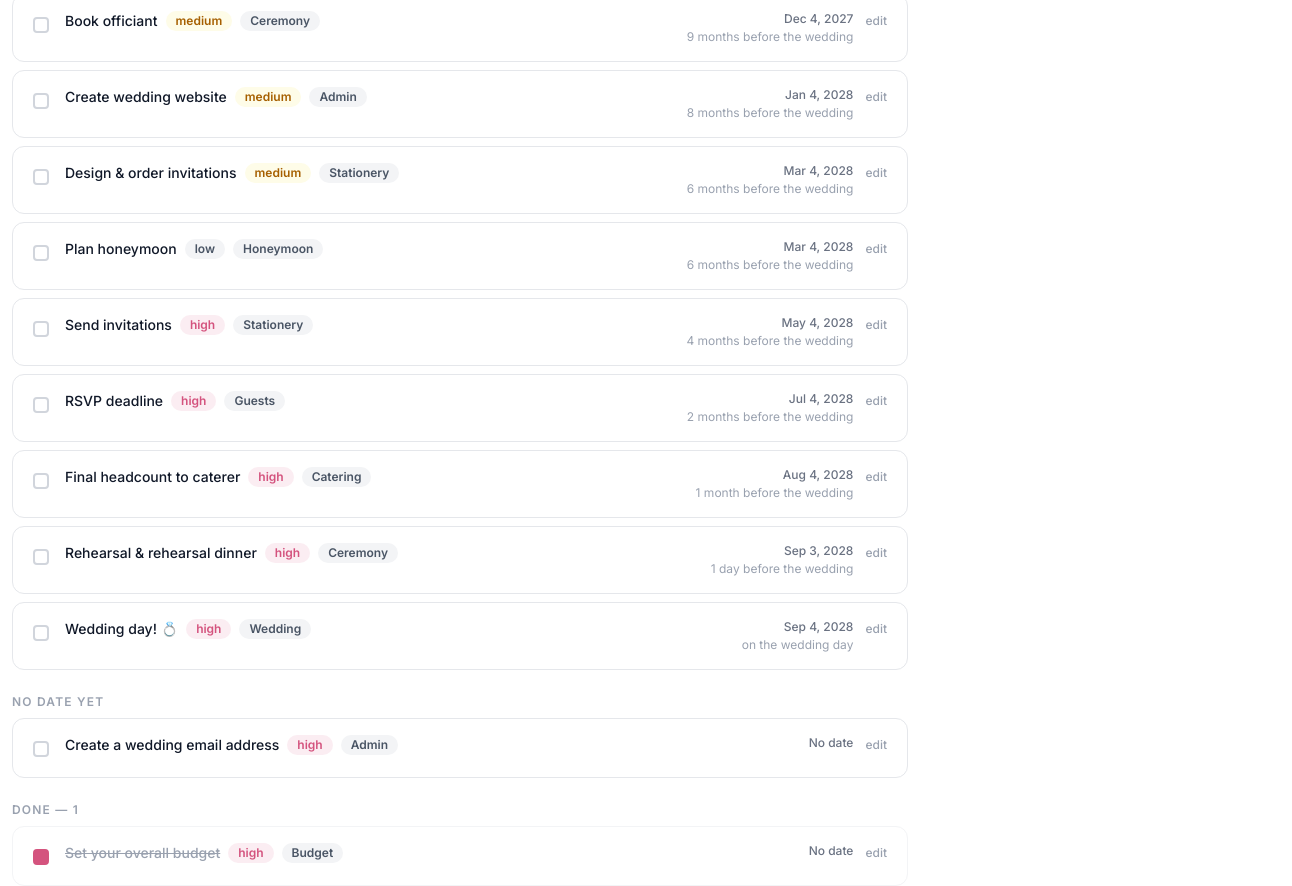
Test: Timeline — removing an item › removes a completed task
(page scrolled)
Click the button "edit" in the row of "Set your overall budget" at (876, 853), box [865,845,887,861]
(page scrolled)
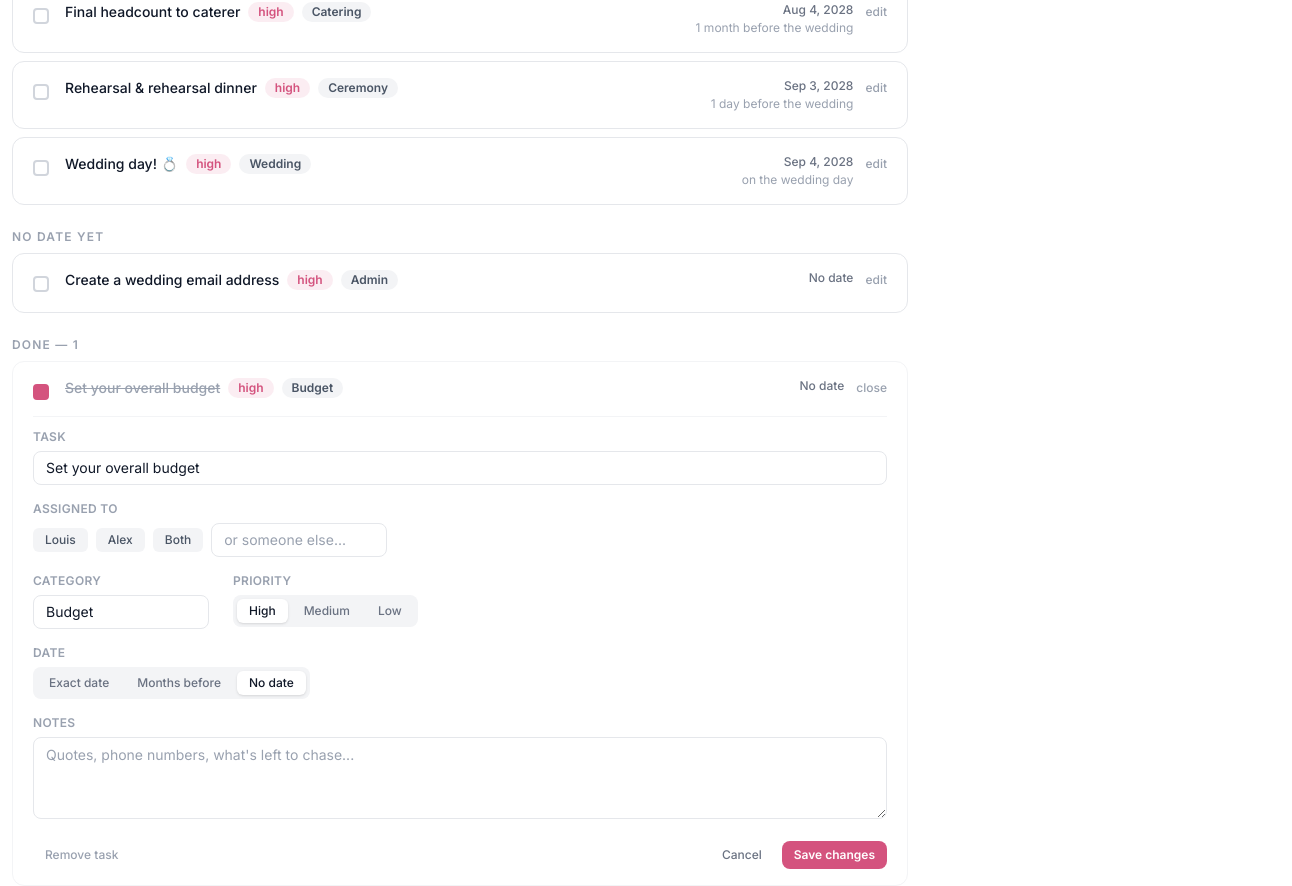
Click the button "Remove task" at (82, 855), box [33,841,130,869]
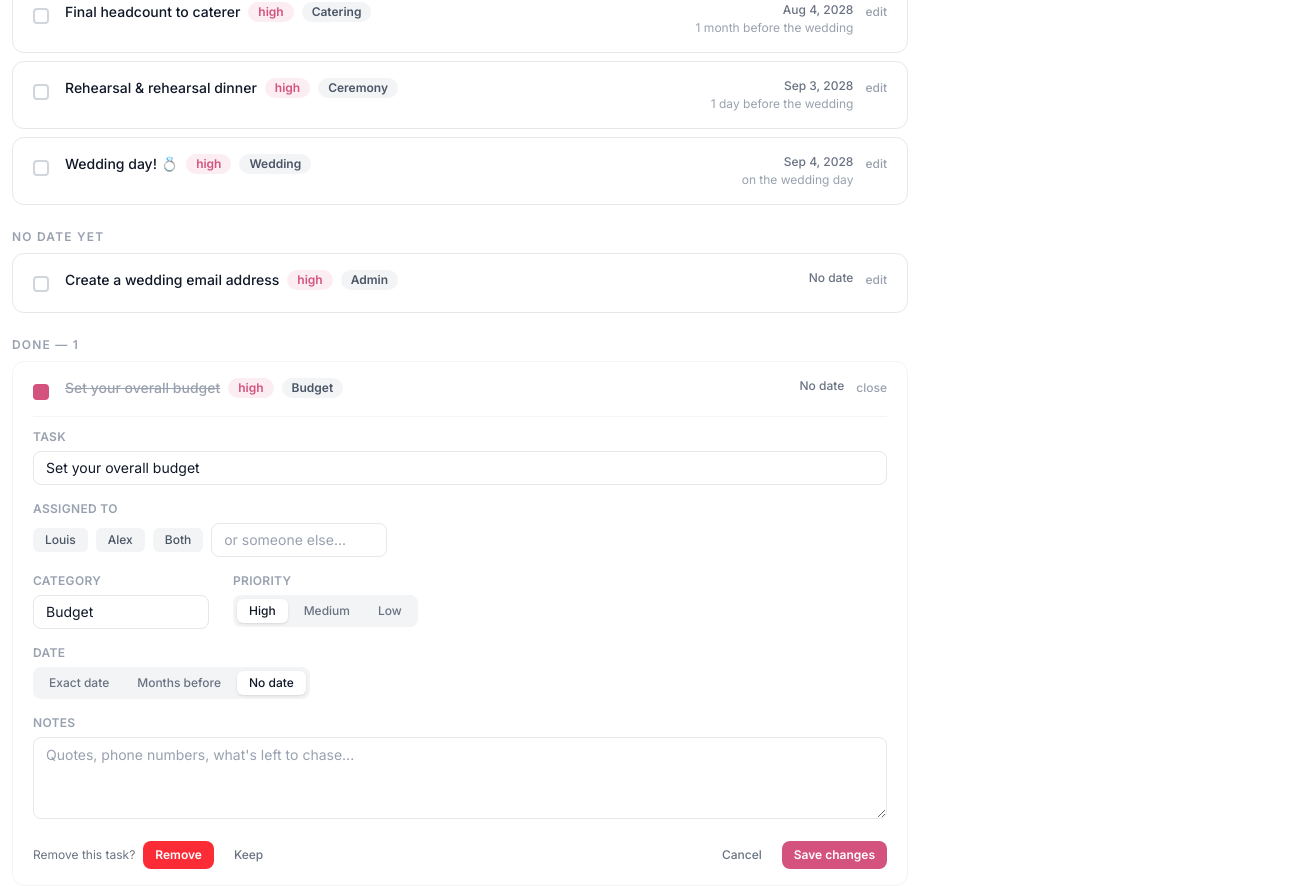
Click the button "Remove" at (179, 855), box [143,841,214,869]
(page scrolled)
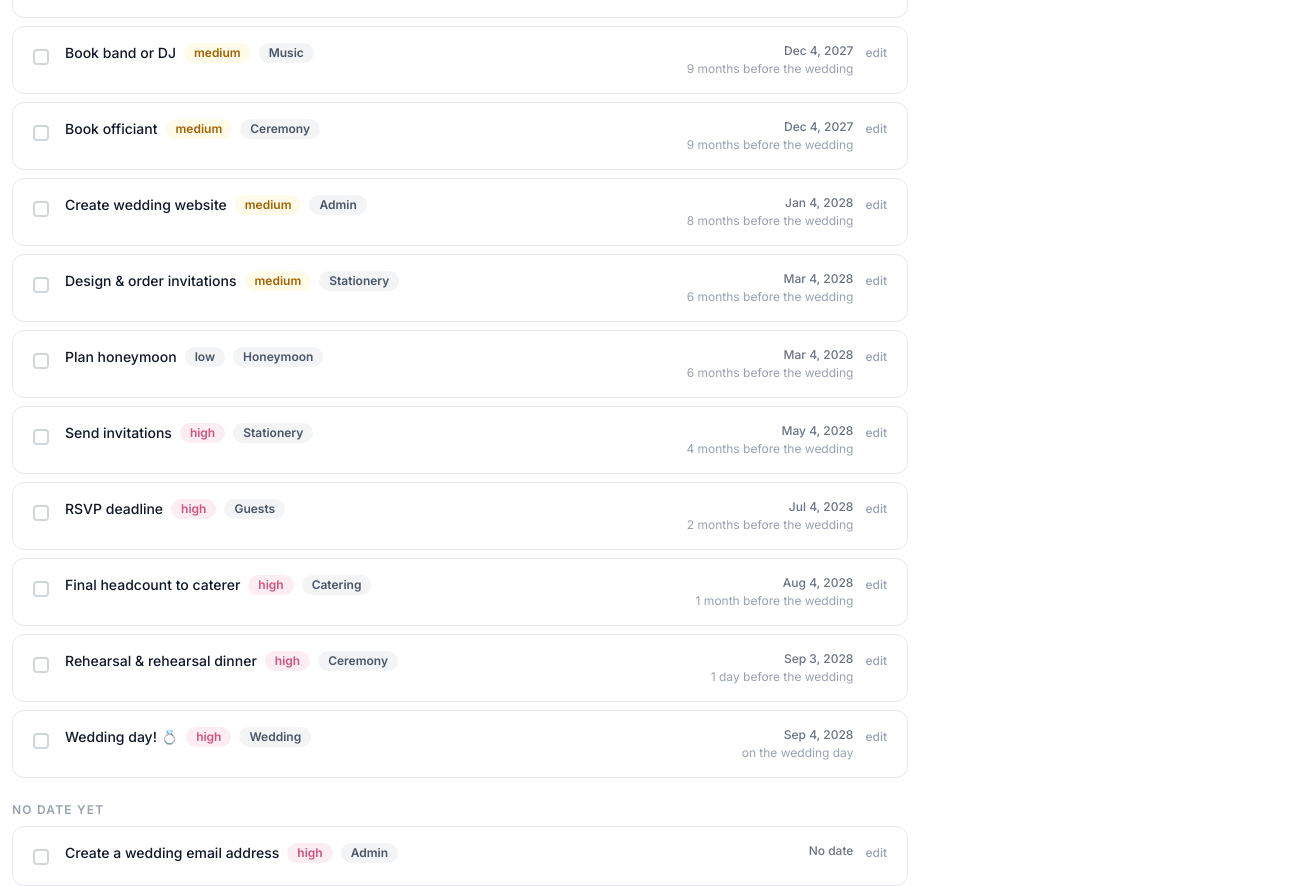
Expected: the text "Set your overall budget" is gone
